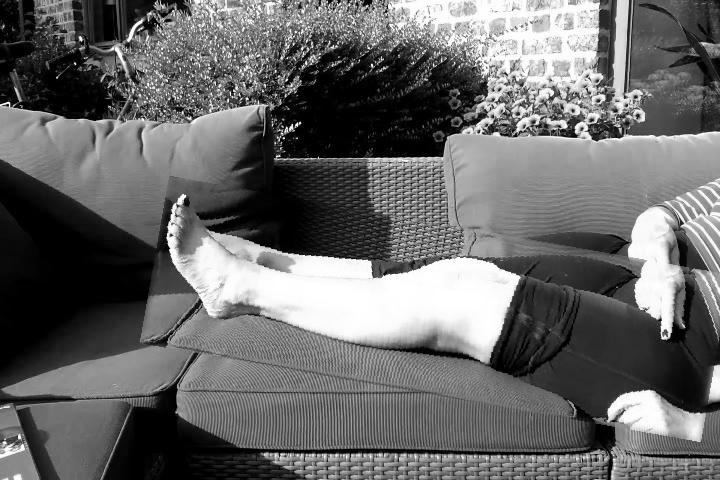lower_body: (146, 201, 720, 419)
